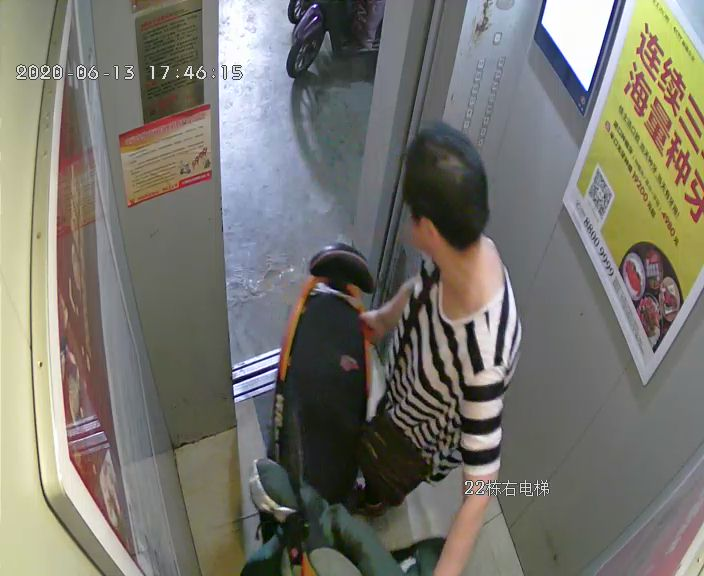Electric-bicycle: (248, 243, 417, 576)
